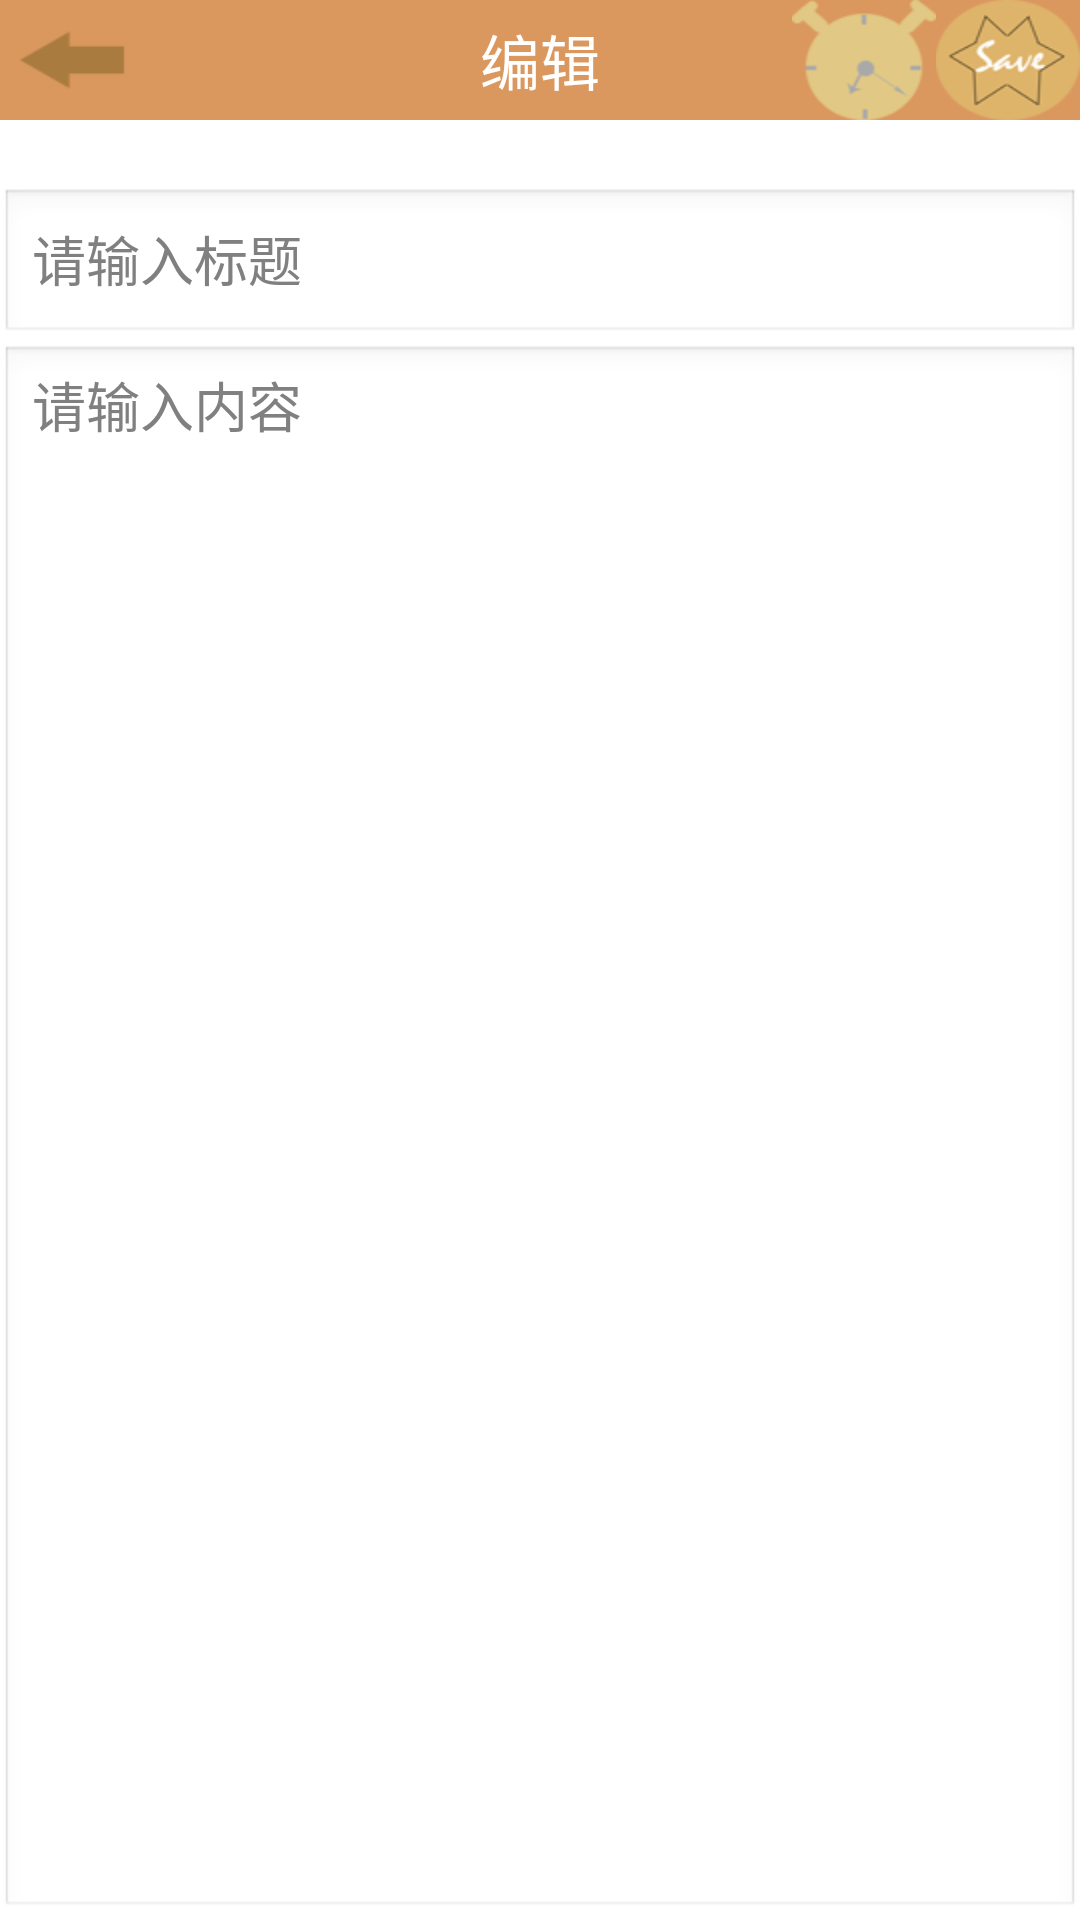

Icons on this 1080×1920 Android screen, each with its box as (left=x1, top=y1, right=x2, bottom=y2):
返回: (left=22, top=33, right=124, bottom=87)
闹钟: (left=792, top=0, right=936, bottom=120)
